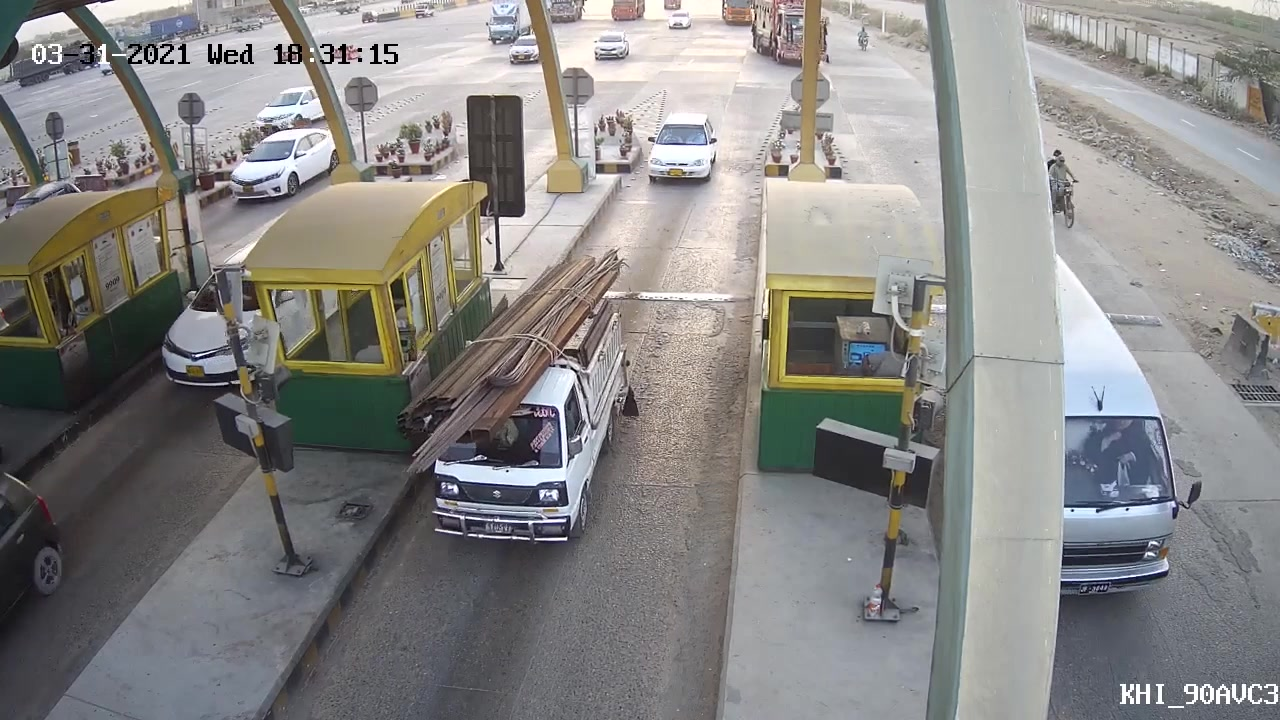F1: (426, 246, 655, 550), (639, 111, 721, 196)
